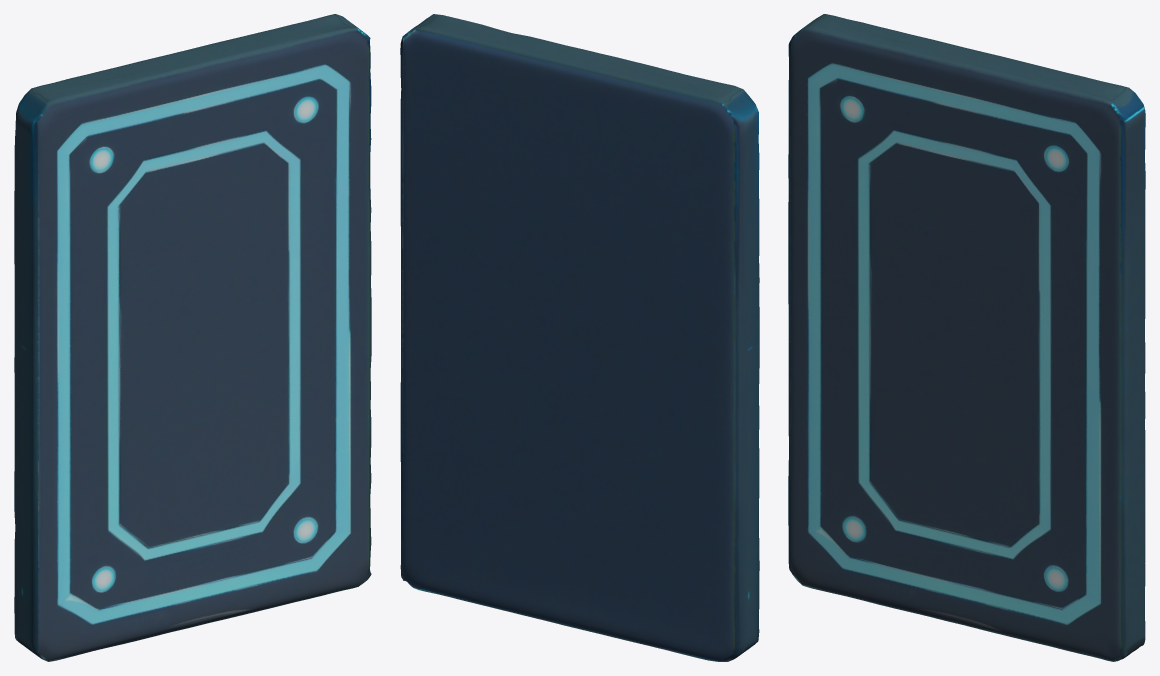
Rendered from Neon_Wall_Tile_0926195914_texture.fbx.
The picture shows the model from 3 angles, left to right: view 1: azimuth 30°, elevation 25°; view 2: azimuth 150°, elevation 25°; view 3: azimuth 330°, elevation 25°; orthographic projection.
Visible parts, largest first — view 1: Mesh0; view 2: Mesh0; view 3: Mesh0.
Boxes of the visible parts, x1=… form: Mesh0: x1=14, y1=14, x2=371, y2=661; Mesh0: x1=400, y1=14, x2=759, y2=661; Mesh0: x1=788, y1=14, x2=1145, y2=661.
Size of the model in its own units: 121 by 191 by 14.54.
1 material, 1 textured.
